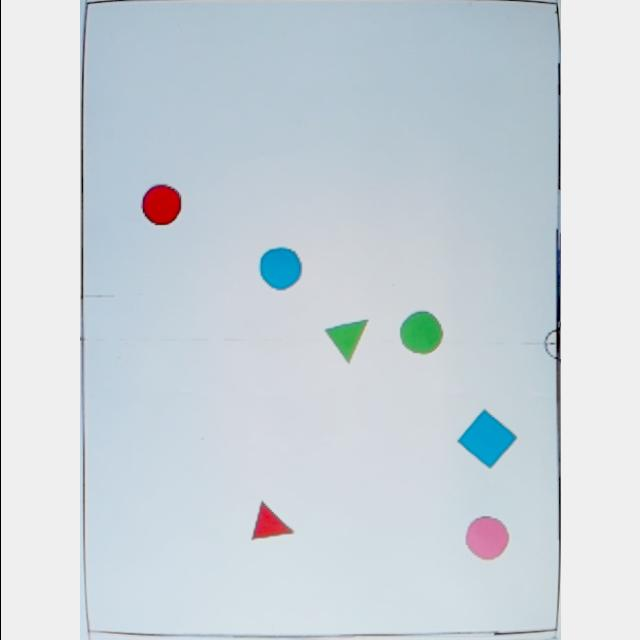blueCircle: (260, 247, 302, 291)
blueSquare: (458, 408, 518, 469)
greenCircle: (400, 310, 444, 356)
greenTriangle: (324, 318, 372, 366)
pinkCircle: (466, 516, 510, 560)
redCircle: (141, 186, 185, 227)
redTriangle: (250, 500, 296, 542)
